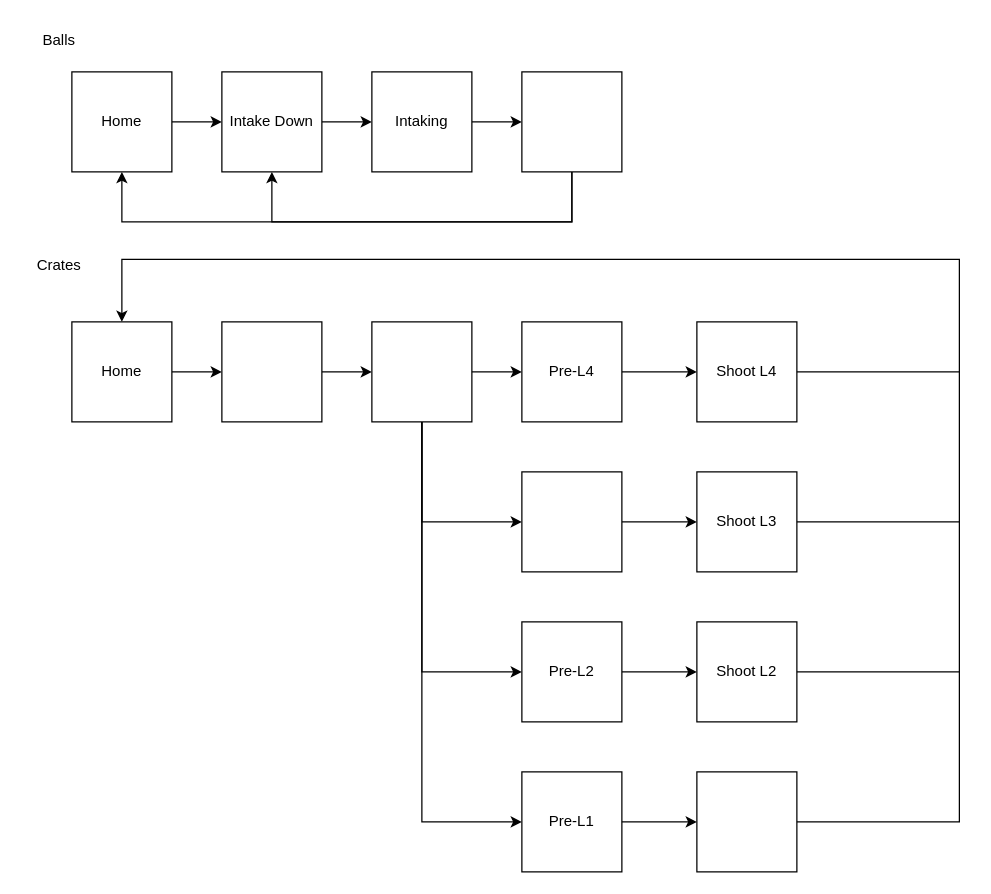
The diagram is 991 pixels wide and 894 high, and some of its shapes have lost their labels. The shapes that lost their labels are listed below. From the top down, each one's box as (x1, y1, x2, y2) in pixels, then its label:
(521, 71, 622, 172): Shoot
(221, 321, 322, 422): Intake Crates
(371, 321, 472, 422): Travel
(521, 471, 622, 572): Pre-L3
(696, 771, 797, 872): Shoot L1
